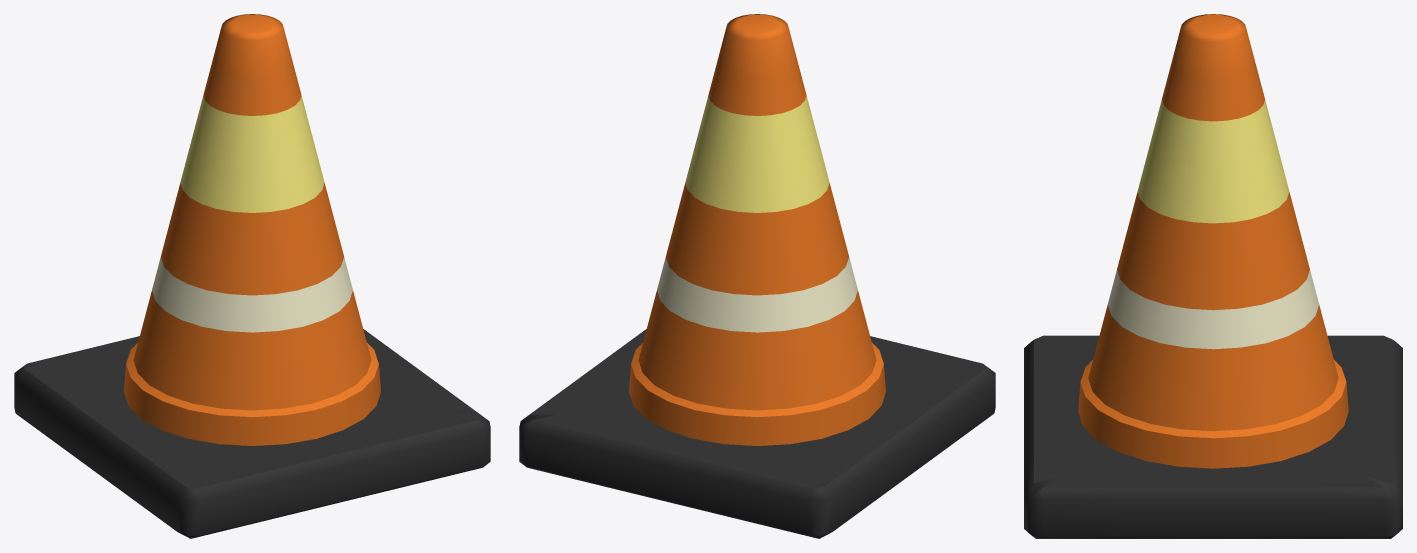
3 renders of one model, left to right at view 1: azimuth 30°, elevation 25°; view 2: azimuth 150°, elevation 25°; view 3: azimuth 270°, elevation 25°, orthographic. The views are drawn at different scales.
Visible parts, largest first — view 1: orangeCone:polySurface4; view 2: orangeCone:polySurface4; view 3: orangeCone:polySurface4.
Boxes of the visible parts, box(x1,y1,x2,y2) form: orangeCone:polySurface4: box(14, 14, 490, 538); orangeCone:polySurface4: box(519, 14, 995, 538); orangeCone:polySurface4: box(1024, 14, 1402, 538).
Size of the model in its own units: 0.0672 by 0.0861 by 0.0672.
